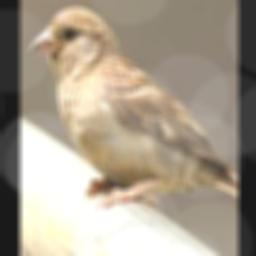Sparrow: (29, 5, 238, 209)
